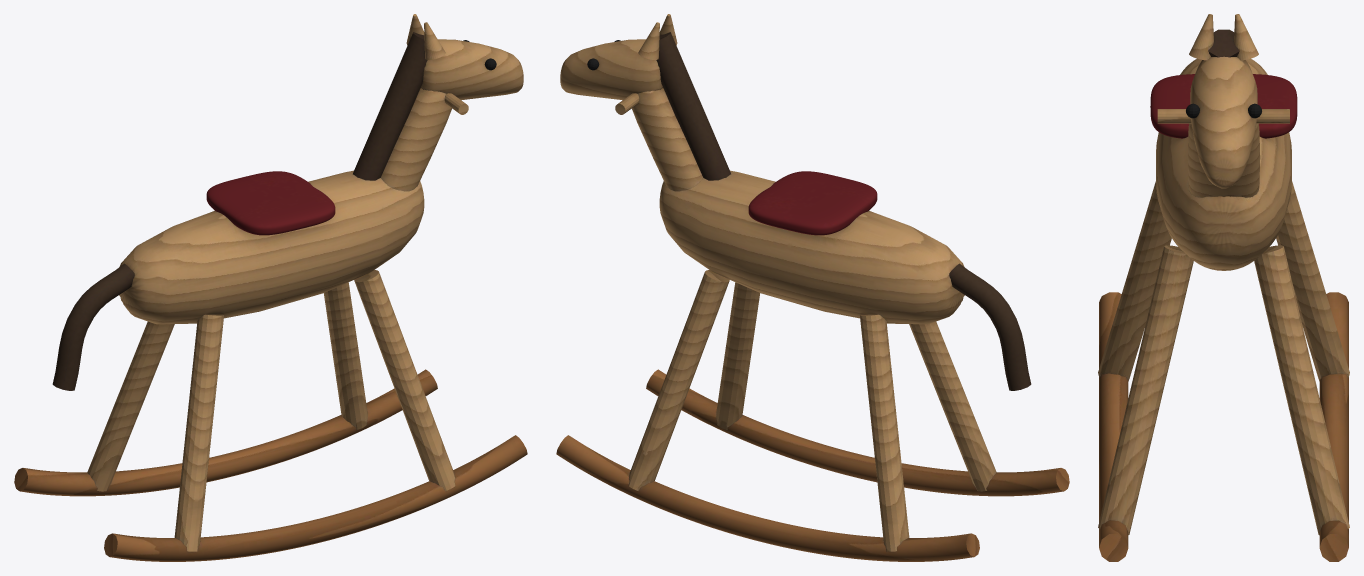
Rendered from natural-wood.glb.
The picture shows the model from 3 angles, left to right: view 1: azimuth 30°, elevation 25°; view 2: azimuth 150°, elevation 25°; view 3: azimuth 270°, elevation 25°; orthographic projection. The views are drawn at different scales.
Visible parts, largest first — view 1: wood_x, wood_rocker, mane_yarn, saddle_leather; view 2: wood_x, wood_rocker, mane_yarn, saddle_leather; view 3: wood_x, wood_rocker, saddle_leather, mane_yarn, eye_black.
Part boxes in pixels (x1,y1,x2,y2): wood_x: (87,14,523,551); wood_rocker: (14,369,527,561); mane_yarn: (52,32,427,390); saddle_leather: (206,171,335,235); wood_x: (560,14,996,551); wood_rocker: (556,369,1069,561); mane_yarn: (656,32,1031,390); saddle_leather: (748,171,877,235); wood_x: (1098,14,1349,535); wood_rocker: (1099,292,1348,561); saddle_leather: (1150,74,1297,138); mane_yarn: (1208,29,1239,57); eye_black: (1186,103,1261,118).
Bounding box in the file's own units: 0.8983 × 0.8375 × 0.3428.
Materials: 5 (4 with a texture image).
